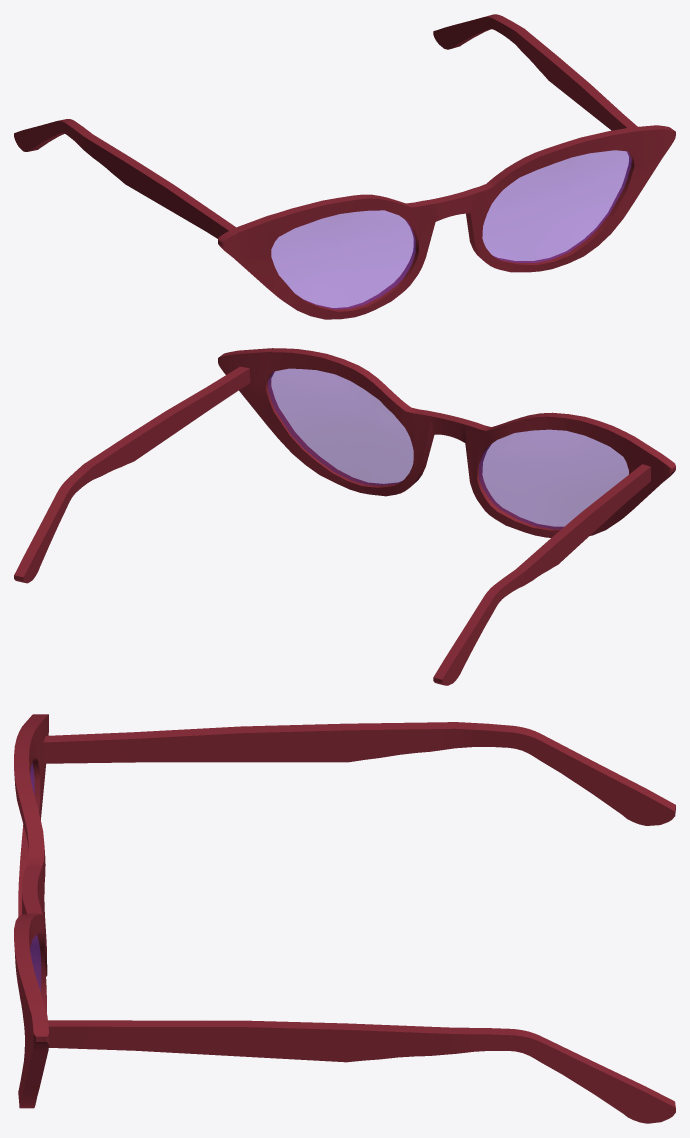
File: langingGlass.glb
The picture shows the model from 3 angles, top to bottom: view 1: azimuth 30°, elevation 25°; view 2: azimuth 150°, elevation 25°; view 3: azimuth 270°, elevation 25°; orthographic projection. The views are drawn at different scales.
Visible parts, largest first — view 1: Object_7.001, Object_7.005; view 2: Object_7.001, Object_7.005; view 3: Object_7.001.
Part boxes in pixels (left/top/right/bottom): Object_7.001: left=14, top=14, right=675, bottom=319; Object_7.005: left=271, top=150, right=631, bottom=309; Object_7.001: left=14, top=348, right=675, bottom=685; Object_7.005: left=268, top=368, right=628, bottom=529; Object_7.001: left=14, top=714, right=675, bottom=1123.
Size of the model in its own units: 4.75 by 1.22 by 4.14.
2 materials, 1 textured.
